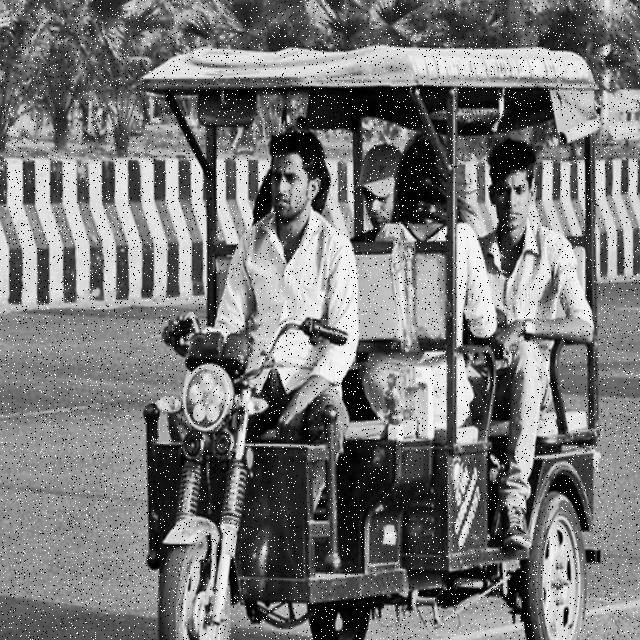Toto: (142, 30, 606, 640)
